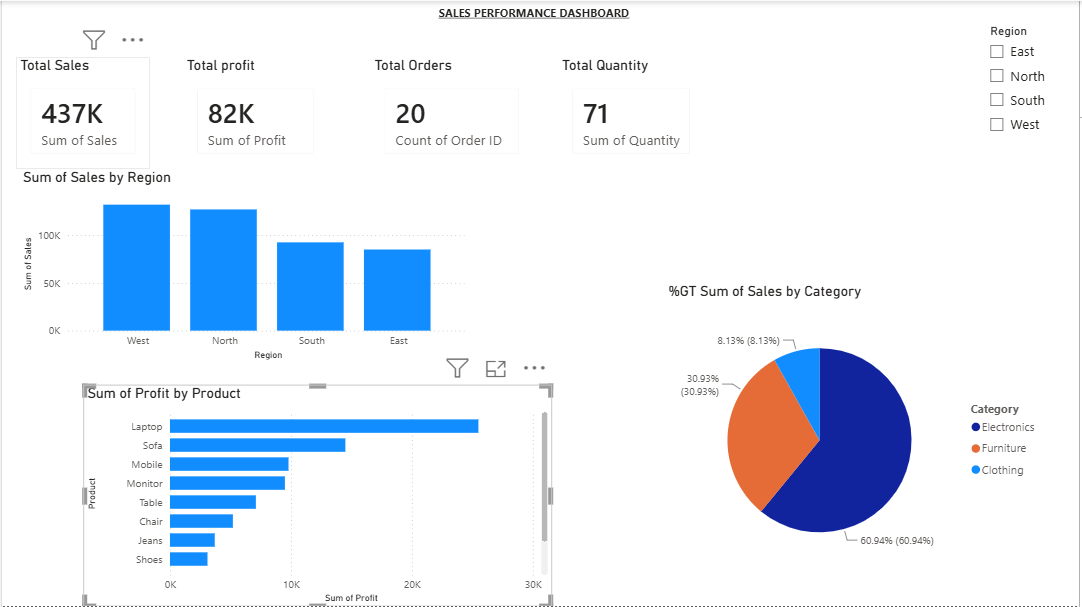

This screenshot's page, from the dashboard's own definition file:
{"tool":"powerbi","page":{"name":"Page 1","canvas":[1280,720],"ordinal":0},"visuals":[{"type":"clusteredColumnChart","fields":{"Category":["Sheet1.Region"],"Y":["Sum(Sheet1.Sales)"]},"box":[20,199.7,539.1,231.3],"z":0},{"type":"cardVisual","title":"Total Sales","fields":{"Data":["Sum(Sheet1.Sales)"]},"box":[16.6,66.6,159.7,133.1],"z":1000},{"type":"cardVisual","title":"Total profit","fields":{"Data":["Sum(Sheet1.Profit)"]},"box":[214.6,66.6,173,133.1],"z":2000},{"type":"pieChart","fields":{"Category":["Sheet1.Category"],"Y":["Sum(Sheet1.Sales)"]},"box":[787,334.4,454.2,356.1],"z":3000},{"type":"cardVisual","title":"Total Orders","fields":{"Data":["CountNonNull(Sheet1.Order ID)"]},"box":[437.6,66.6,194.7,133.1],"z":4000},{"type":"cardVisual","title":"Total Quantity","fields":{"Data":["Sum(Sheet1.Quantity)"]},"box":[660.6,66.6,174.7,133.1],"z":5000},{"type":"textbox","box":[251.2,0,762.1,41.6],"z":5002},{"type":"slicer","fields":{"Values":["Sheet1.Region"]},"box":[1161.4,21.6,106.5,164.7],"z":5003},{"type":"clusteredBarChart","fields":{"Category":["Sheet1.Product"],"Y":["Sum(Sheet1.Profit)"]},"box":[96.5,455.9,557.4,264.6],"z":5004}]}

Visuals, with their boxes in screenshot pixels (x1, y1, x2, y2), scaled from the page's 1280x720 canvas onto the 1082x607 screenshot:
clusteredColumnChart - Sheet1.Region x Sum(Sheet1.Sales): 17:168:473:363
"Total Sales" cardVisual: 14:56:149:168
"Total profit" cardVisual: 181:56:328:168
pieChart - Sheet1.Category x Sum(Sheet1.Sales): 665:282:1049:582
"Total Orders" cardVisual: 370:56:534:168
"Total Quantity" cardVisual: 558:56:706:168
textbox: 212:0:857:35
slicer - Sheet1.Region: 982:18:1072:157
clusteredBarChart - Sheet1.Product x Sum(Sheet1.Profit): 82:384:553:606
